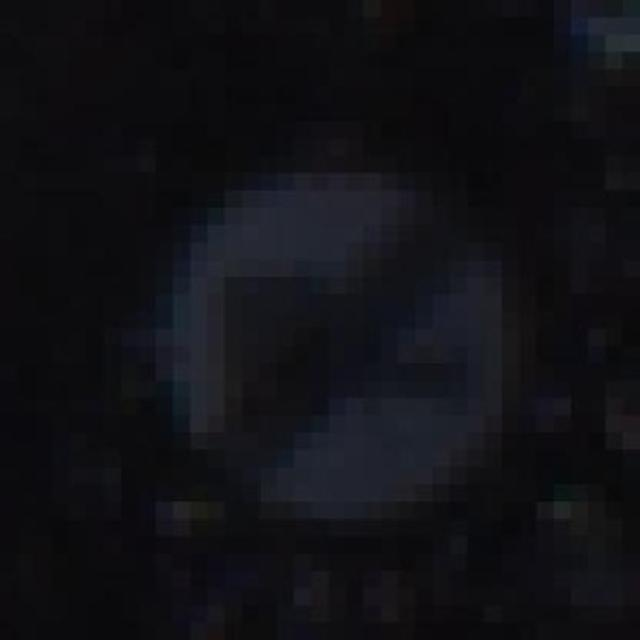Overtaking by trucks is prohibited: (86, 86, 571, 554)
